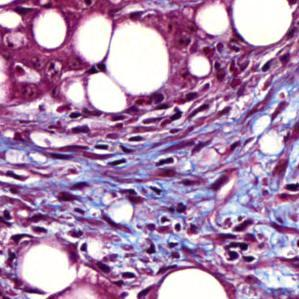steatosis: (107, 22, 171, 95), (30, 9, 72, 49)
